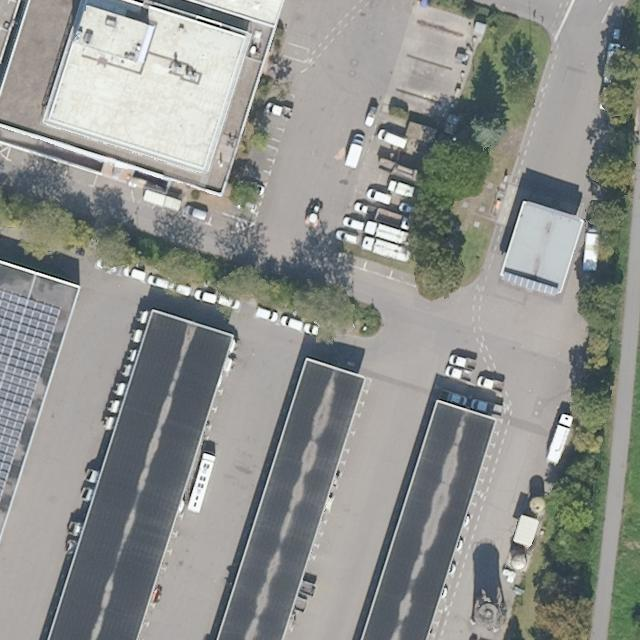PV: (2, 286, 65, 510), (498, 269, 564, 300)
